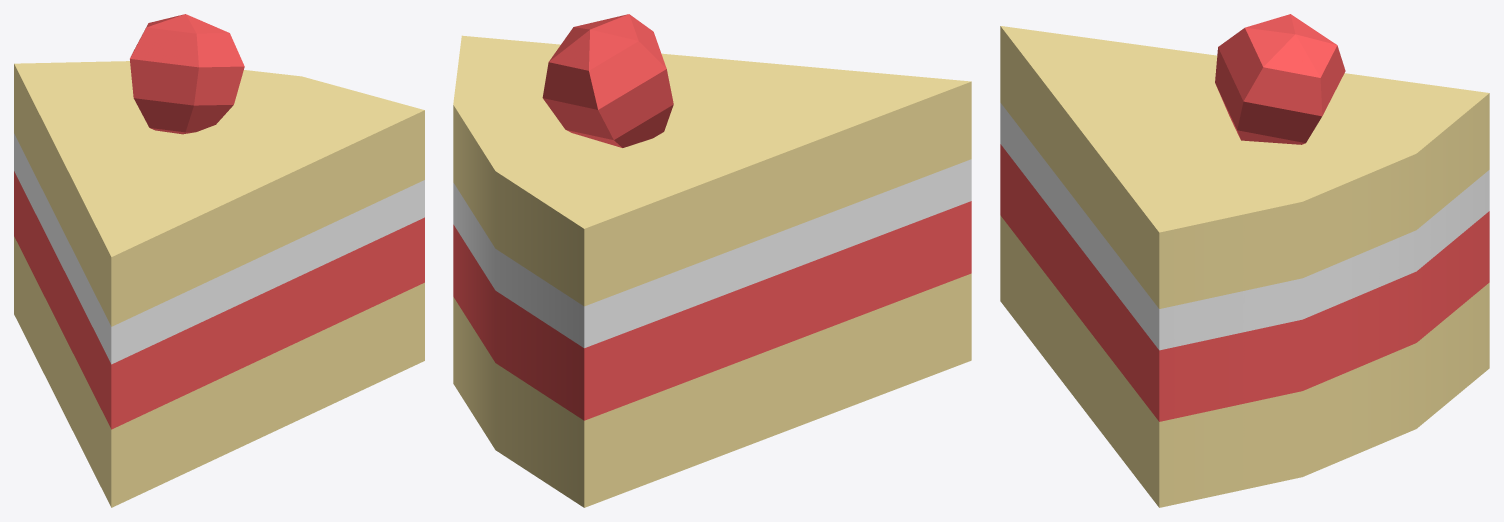
The model's file is cake.fbx.
The picture shows the model from 3 angles, left to right: view 1: azimuth 30°, elevation 25°; view 2: azimuth 150°, elevation 25°; view 3: azimuth 270°, elevation 25°; orthographic projection. The views are drawn at different scales.
Visible parts, largest first — view 1: pSphere2; view 2: pSphere2; view 3: pSphere2.
Boxes of the visible parts, <box> form: pSphere2: <box>14,14,424,507</box>; pSphere2: <box>453,14,971,507</box>; pSphere2: <box>1000,14,1489,507</box>.
Bounding box in the file's own units: 0.9511 × 0.8124 × 0.9511.
1 material, 1 textured.
